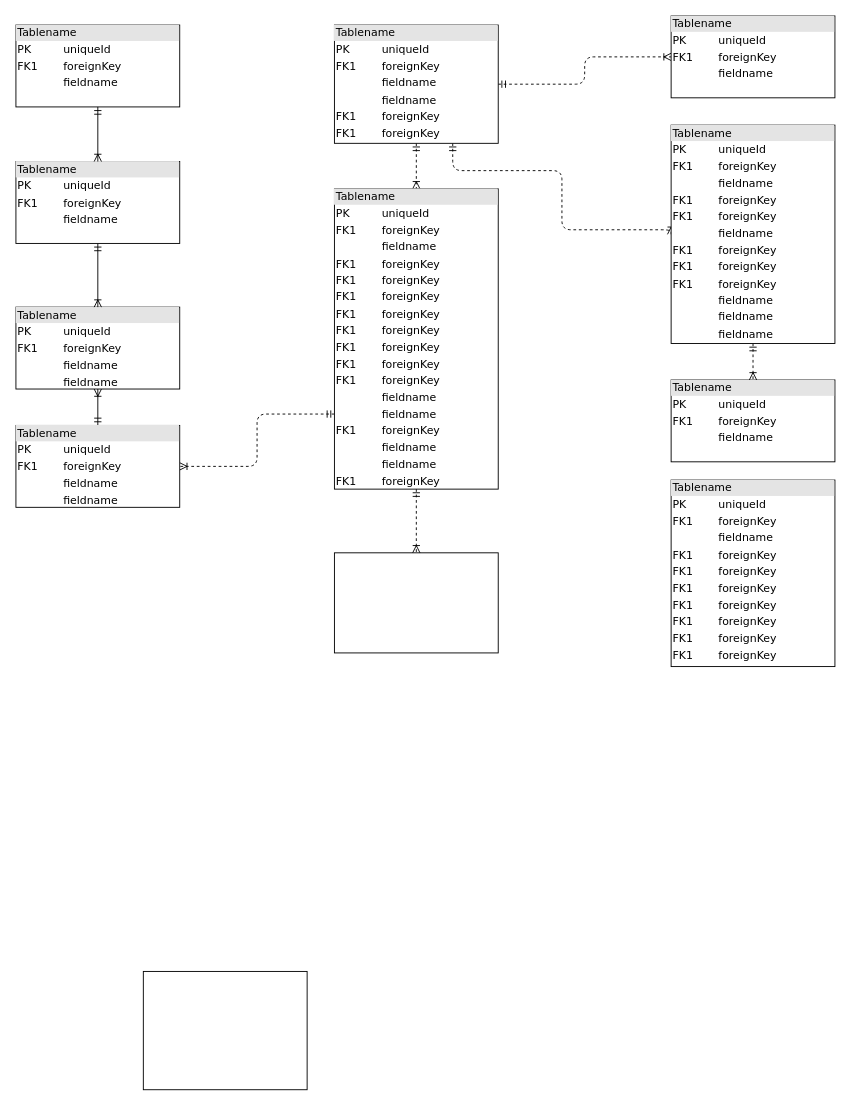
The diagram is 851 pixels wide and 1106 high, and some of its shapes have lost their labels. The box of each missing label's shape, as (x1, y1, x2, y2) in pixels:
Tablename PK uniqueId FK1 foreignKey fieldname fieldname FK1 foreignKey: (334, 552, 498, 653)
Zutaten PK ID name fieldname fieldname fieldname fieldname: (142, 971, 307, 1090)
